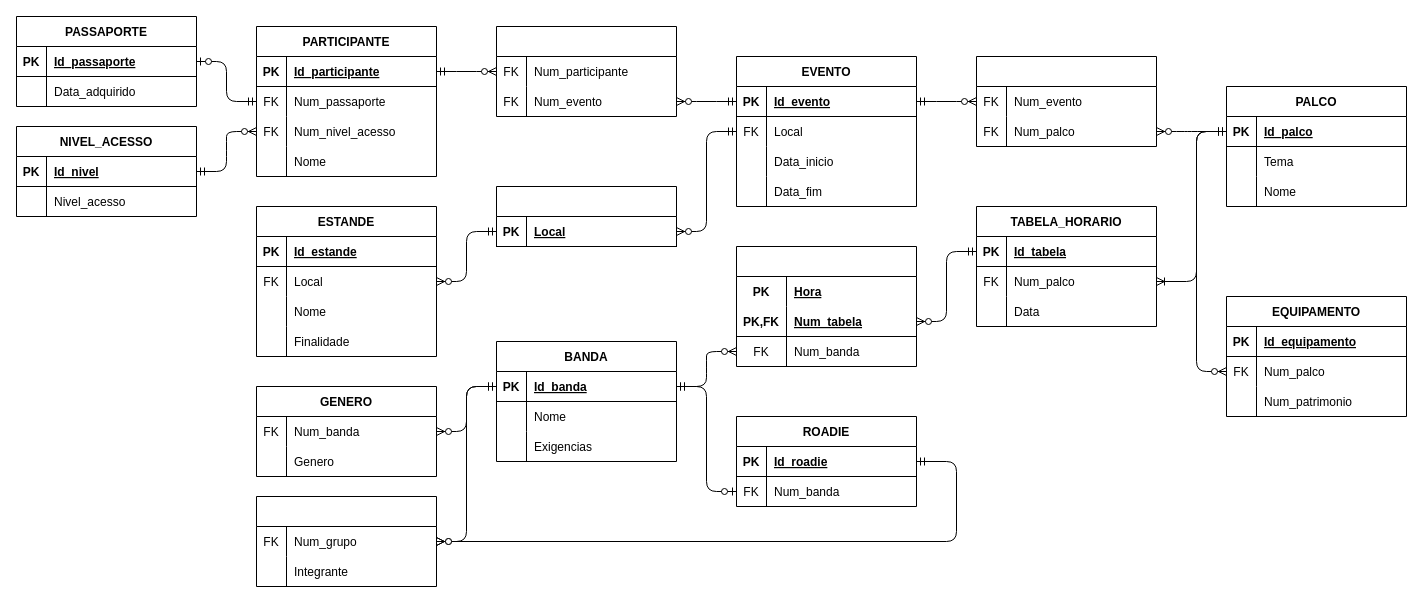
This 1423x603 diagram has some shape labels left out. The box of each missing label's shape, as (x1, y1, x2, y2) in pixels:
AREA_ESTANDE: (496, 186, 676, 246)
EVENTO_PALCO: (976, 56, 1156, 146)
HORARIOS_ALOCADOS: (736, 246, 916, 366)
IINTEGRANTE: (256, 496, 436, 586)
PARTICIPANTE_EVENTO: (496, 26, 676, 116)
